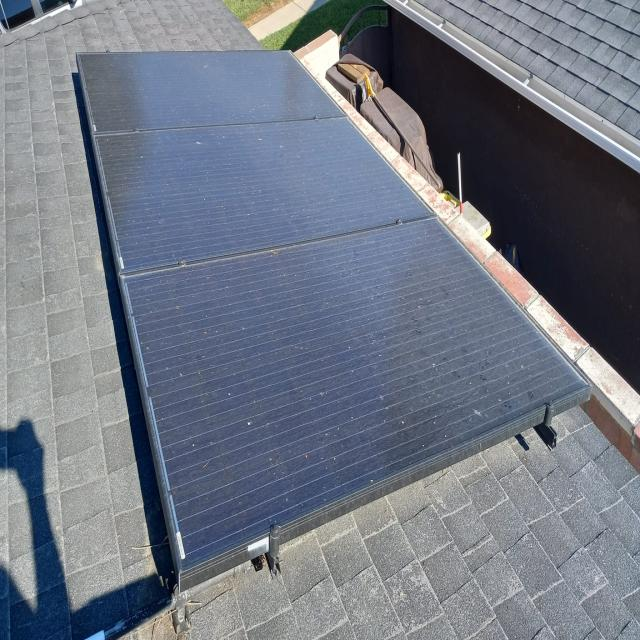dust-solar-panel: (75, 47, 589, 574)
